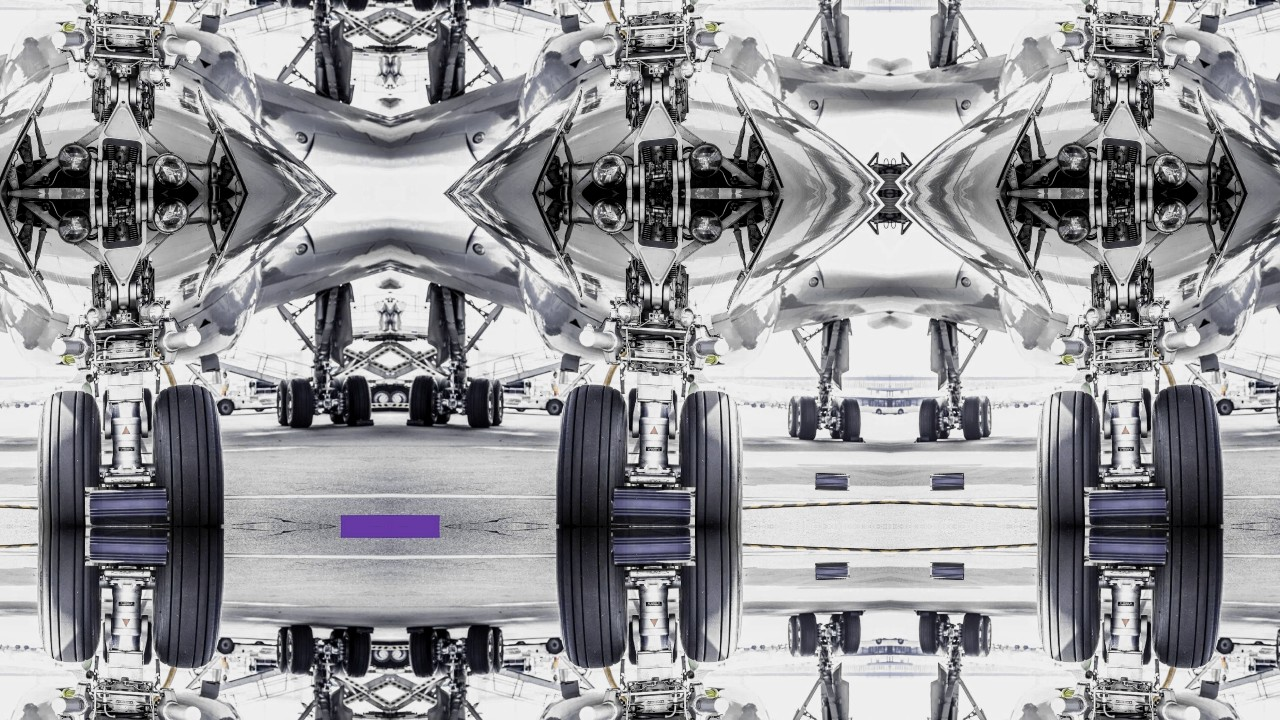chock: (84, 486, 169, 527), (611, 486, 696, 527), (1084, 486, 1169, 527), (84, 527, 169, 568), (611, 527, 696, 568), (1084, 527, 1169, 568), (815, 473, 850, 491), (930, 473, 965, 491), (815, 562, 850, 580), (930, 562, 965, 580)
wheel: (148, 384, 227, 527), (553, 384, 632, 527), (1148, 384, 1227, 527), (148, 527, 227, 669), (553, 527, 632, 669), (1148, 527, 1227, 669), (37, 389, 107, 527), (673, 389, 743, 527), (1037, 389, 1107, 527), (37, 527, 107, 664), (673, 527, 743, 664), (1037, 527, 1107, 664), (102, 386, 154, 439), (626, 386, 678, 439), (1102, 386, 1154, 439), (102, 614, 154, 667), (626, 614, 678, 667), (1102, 614, 1154, 667), (277, 376, 315, 428), (465, 376, 503, 428), (277, 625, 315, 677), (465, 625, 503, 677), (341, 374, 373, 426), (407, 374, 439, 426), (341, 627, 373, 679), (407, 627, 439, 679), (834, 397, 862, 442), (918, 397, 946, 442), (834, 612, 862, 657), (918, 612, 946, 657), (327, 378, 350, 424), (430, 378, 453, 424), (327, 629, 350, 675), (430, 629, 453, 675), (796, 395, 818, 440), (962, 395, 984, 440), (796, 613, 818, 658), (962, 613, 984, 658), (275, 380, 291, 426), (489, 380, 505, 426), (275, 627, 291, 673), (489, 627, 505, 673), (140, 386, 153, 436), (627, 386, 640, 436), (1140, 386, 1153, 436), (140, 617, 153, 667), (627, 617, 640, 667), (1140, 617, 1153, 667), (827, 402, 843, 439), (937, 402, 953, 439), (827, 614, 843, 651), (937, 614, 953, 651), (787, 616, 801, 658), (979, 616, 993, 658), (787, 396, 801, 437), (979, 396, 993, 437), (369, 384, 390, 406), (390, 384, 411, 406), (369, 648, 390, 670), (390, 648, 411, 670), (101, 389, 111, 435), (669, 389, 679, 435), (1101, 389, 1111, 435), (101, 619, 111, 664), (669, 619, 679, 664), (1101, 619, 1111, 664), (341, 0, 373, 13), (407, 0, 439, 13), (277, 0, 315, 10), (465, 0, 503, 10), (216, 637, 234, 656), (546, 637, 564, 656), (1216, 637, 1234, 656), (216, 398, 234, 416), (546, 398, 564, 416), (1216, 398, 1234, 416), (1275, 380, 1280, 426), (1275, 627, 1280, 673), (327, 0, 350, 9), (430, 0, 453, 9), (1277, 376, 1280, 428), (1277, 625, 1280, 677), (275, 0, 291, 7), (489, 0, 505, 7), (369, 0, 390, 3), (390, 0, 411, 3), (254, 407, 265, 412), (515, 407, 526, 412), (1254, 407, 1265, 412), (254, 641, 265, 646), (515, 641, 526, 646), (1254, 641, 1265, 646)
